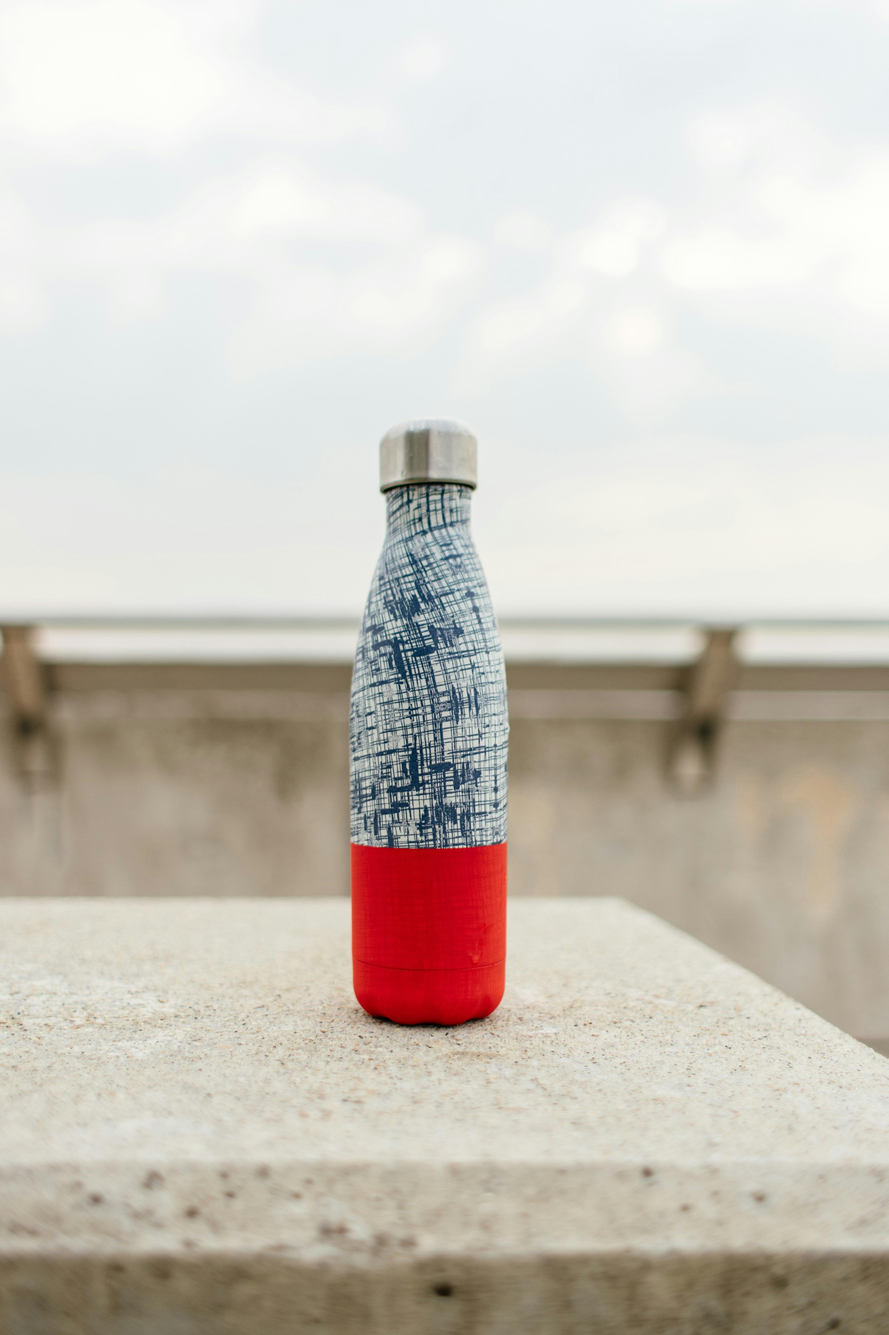Bottle-Detection: (267, 367, 591, 1056)
